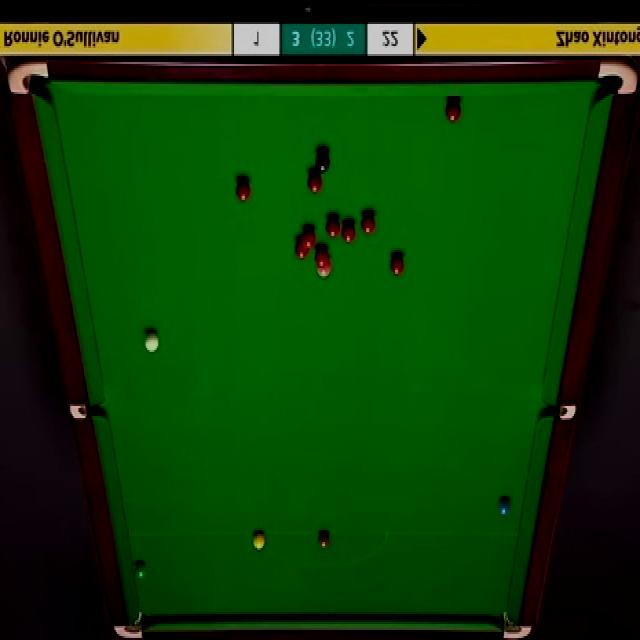pocket: (9, 58, 52, 98), (595, 58, 637, 97), (500, 608, 532, 640), (112, 611, 146, 640), (540, 403, 577, 422), (66, 406, 102, 419)
